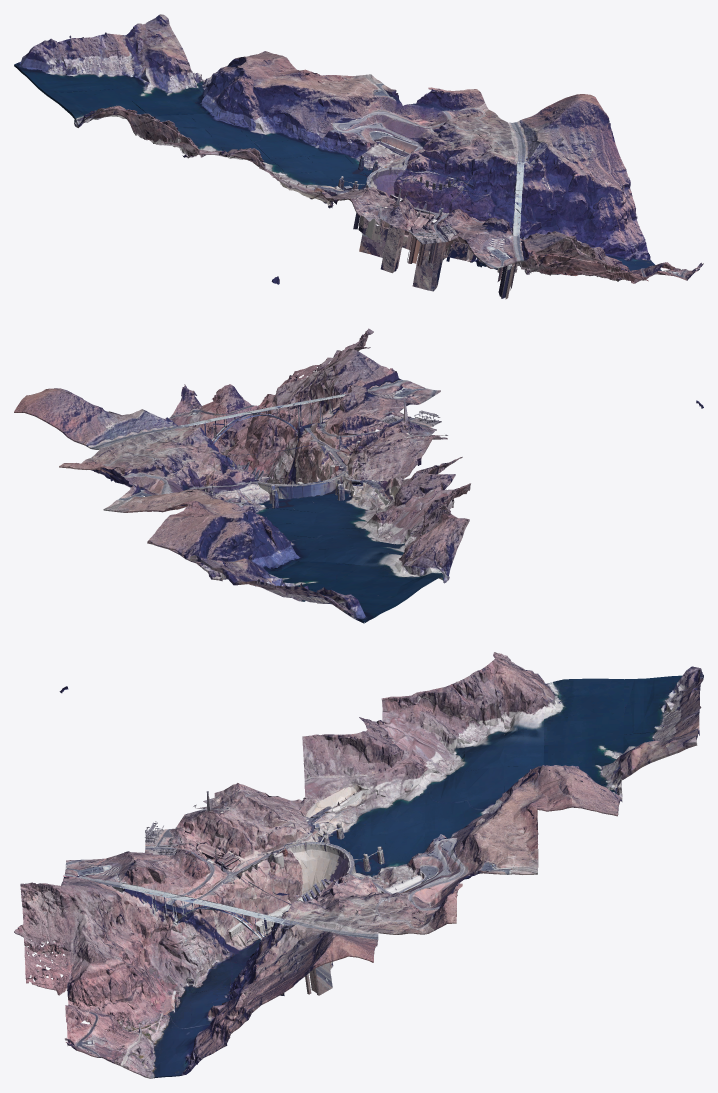
File: dam.glb
The picture shows the model from 3 angles, top to bottom: view 1: azimuth 30°, elevation 25°; view 2: azimuth 150°, elevation 25°; view 3: azimuth 270°, elevation 25°; orthographic projection. The views are drawn at different scales.
Parts seen in each view (by area): view 1: BuildingMesh-00155.001_65, BuildingMesh-00055.001_22, BuildingMesh-00035.001_11, BuildingMesh-00129.001_58, BuildingMesh-00098.001_46, BuildingMesh-00044.001_16, BuildingMesh-00110.001_52, BuildingMesh-00120.001_56, BuildingMesh-00079.001_37, BuildingMesh-00069.001_31, BuildingMesh-00032.001_10, BuildingMesh-00083.001_38 (+24 smaller); view 2: BuildingMesh-00155.001_65, BuildingMesh-00141.001_60, BuildingMesh-00109.001_51, BuildingMesh-00025.001_5, BuildingMesh-00044.001_16, BuildingMesh-00134.001_59, BuildingMesh-00069.001_31, BuildingMesh-00090.001_42, BuildingMesh-00059.001_24, BuildingMesh-00156.001_66, BuildingMesh-00079.001_37, BuildingMesh-00083.001_38 (+23 smaller); view 3: BuildingMesh-00155.001_65, BuildingMesh-00046.001_17, BuildingMesh-00119.001_55, BuildingMesh-00156.001_66, BuildingMesh-00134.001_59, BuildingMesh-00025.001_5, BuildingMesh-00090.001_42, BuildingMesh-00109.001_51, BuildingMesh-00110.001_52, BuildingMesh-00059.001_24, BuildingMesh-00148.001_62, BuildingMesh-00032.001_10 (+27 smaller).
Boxes of the visible parts, <box> form: BuildingMesh-00155.001_65: <box>14,14,225,127</box>; BuildingMesh-00055.001_22: <box>464,149,560,239</box>; BuildingMesh-00035.001_11: <box>546,143,637,234</box>; BuildingMesh-00129.001_58: <box>226,70,328,142</box>; BuildingMesh-00098.001_46: <box>329,107,432,167</box>; BuildingMesh-00044.001_16: <box>531,94,613,146</box>; BuildingMesh-00110.001_52: <box>302,69,402,120</box>; BuildingMesh-00120.001_56: <box>254,121,357,174</box>; BuildingMesh-00079.001_37: <box>402,88,507,142</box>; BuildingMesh-00069.001_31: <box>434,122,534,181</box>; BuildingMesh-00032.001_10: <box>565,208,661,278</box>; BuildingMesh-00083.001_38: <box>358,142,463,210</box>; BuildingMesh-00155.001_65: <box>189,533,449,623</box>; BuildingMesh-00141.001_60: <box>147,504,275,581</box>; BuildingMesh-00109.001_51: <box>274,473,400,517</box>; BuildingMesh-00025.001_5: <box>232,371,334,460</box>; BuildingMesh-00044.001_16: <box>14,388,141,437</box>; BuildingMesh-00134.001_59: <box>319,483,444,545</box>; BuildingMesh-00069.001_31: <box>102,421,229,474</box>; BuildingMesh-00090.001_42: <box>329,428,442,490</box>; BuildingMesh-00059.001_24: <box>285,395,398,484</box>; BuildingMesh-00156.001_66: <box>363,505,469,576</box>; BuildingMesh-00079.001_37: <box>59,448,187,492</box>; BuildingMesh-00083.001_38: <box>188,452,295,508</box>; BuildingMesh-00155.001_65: <box>543,666,703,787</box>; BuildingMesh-00046.001_17: <box>146,896,231,1023</box>; BuildingMesh-00119.001_55: <box>302,717,386,809</box>; BuildingMesh-00156.001_66: <box>460,652,544,746</box>; BuildingMesh-00134.001_59: <box>382,722,465,807</box>; BuildingMesh-00025.001_5: <box>63,898,150,1017</box>; BuildingMesh-00090.001_42: <box>223,783,308,891</box>; BuildingMesh-00109.001_51: <box>304,799,385,890</box>; BuildingMesh-00110.001_52: <box>459,806,538,882</box>; BuildingMesh-00059.001_24: <box>143,849,231,962</box>; BuildingMesh-00148.001_62: <box>464,736,544,800</box>; BuildingMesh-00032.001_10: <box>150,1002,227,1078</box>.
Size of the model in its own units: 88.64 by 30.53 by 101.
Materials: 100 (100 with a texture image).
